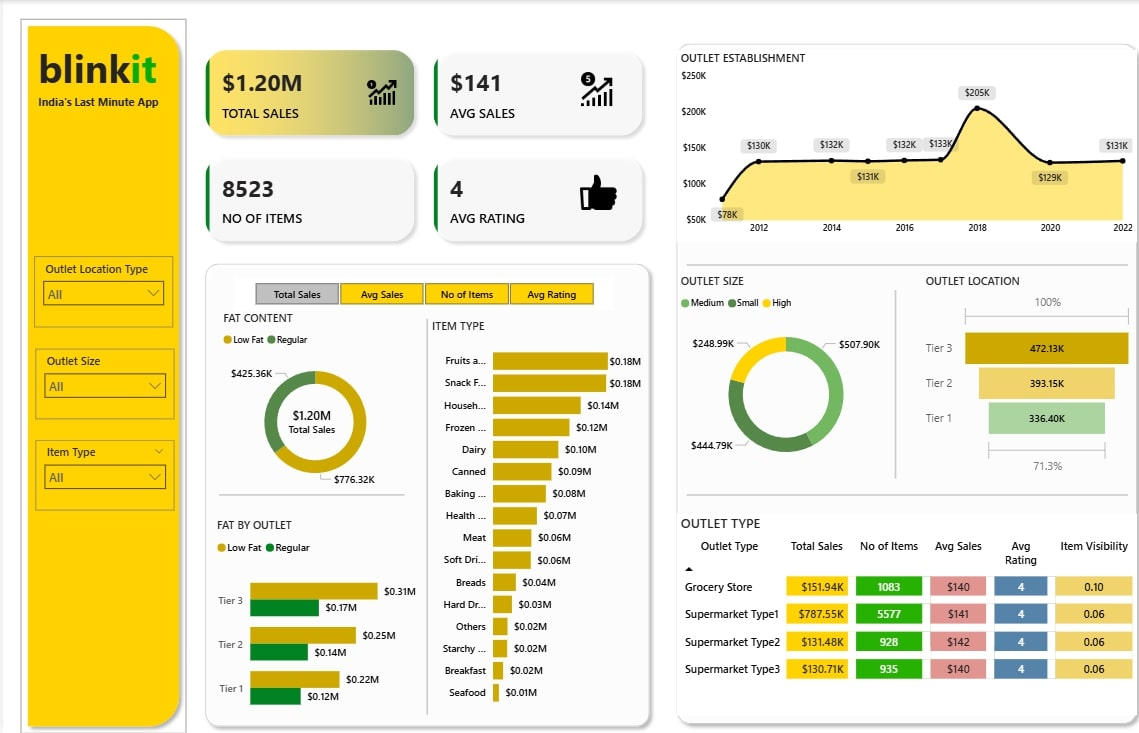

What the dashboard file says about the page in this screenshot:
{"tool":"powerbi","page":{"name":"Page 1","canvas":[1400,900],"ordinal":0},"visuals":[{"type":"shape","box":[21.8,23.3,203.8,877.3],"z":0},{"type":"textbox","box":[38.9,45.1,169.6,88.7],"z":1000},{"type":"textbox","box":[38.9,110.4,227.1,88.7],"z":2000},{"type":"cardVisual","fields":{"Data":["BlinkIT Grocery Data.Total Sales","BlinkIT Grocery Data.Avg Sales","BlinkIT Grocery Data.No of Items","BlinkIT Grocery Data.Avg Rating"]},"box":[231.6,44.5,570.6,269.9],"z":3000},{"type":"shape","box":[239.3,314.4,562.9,585.9],"z":4000},{"type":"donutChart","title":"FAT CONTENT","fields":{"Y":["BlinkIT Grocery Data.Total Sales"],"Category":["BlinkIT Grocery Data.Item Fat Content"]},"box":[265.3,380.4,236.2,230.1],"z":5000},{"type":"slicer","fields":{"Values":["Metrics.Metrics"]},"box":[283.7,340.5,464.7,39.9],"z":6000},{"type":"cardVisual","fields":{"Data":["BlinkIT Grocery Data.Total Sales"]},"box":[331.3,472.4,95.1,89],"z":7000},{"type":"clusteredBarChart","title":"FAT BY OUTLET","fields":{"Category":["BlinkIT Grocery Data.Outlet Location Type"],"Series":["BlinkIT Grocery Data.Item Fat Content"],"Y":["BlinkIT Grocery Data.Total Sales"]},"box":[257.2,634.4,254.1,258.8],"z":8000},{"type":"shape","box":[265.1,583.9,227.2,45.8],"z":9000},{"type":"shape","box":[501.8,391.3,37.9,486],"z":10000},{"type":"barChart","title":"ITEM TYPE","fields":{"Y":["BlinkIT Grocery Data.Total Sales"],"Category":["BlinkIT Grocery Data.Item Type"]},"box":[520.7,391.3,266.7,486],"z":11000},{"type":"shape","box":[817.5,44.5,582.8,852.8],"z":12000},{"type":"lineChart","title":"OUTLET ESTABLISHMENT","fields":{"Y":["BlinkIT Grocery Data.Total Sales"],"Category":["BlinkIT Grocery Data.Outlet Establishment Year"]},"box":[826.7,61.4,564.4,236.2],"z":13000},{"type":"shape","box":[839,302.1,541.4,46],"z":14000},{"type":"donutChart","title":"OUTLET SIZE","fields":{"Y":["BlinkIT Grocery Data.Total Sales"],"Category":["BlinkIT Grocery Data.Outlet Size"]},"box":[826.7,335.9,268.4,251.5],"z":15000},{"type":"shape","box":[1076.7,355.8,36.8,231.6],"z":16000},{"type":"funnel","title":"OUTLET LOCATION","fields":{"Y":["Sum(BlinkIT Grocery Data.Sales)"],"Category":["BlinkIT Grocery Data.Outlet Location Type"]},"box":[1127.3,335.9,263.8,251.5],"z":17000},{"type":"shape","box":[839,584.4,541.4,46],"z":18000},{"type":"pivotTable","title":"OUTLET TYPE","fields":{"Rows":["BlinkIT Grocery Data.Outlet Type"],"Values":["BlinkIT Grocery Data.Total Sales","BlinkIT Grocery Data.No of Items","BlinkIT Grocery Data.Avg Sales","BlinkIT Grocery Data.Avg Rating","Avg(BlinkIT Grocery Data.Item Visibility)"]},"box":[826.7,630.4,564.4,246.9],"z":19000},{"type":"slicer","fields":{"Values":["BlinkIT Grocery Data.Outlet Location Type"]},"box":[38.3,314.4,170.2,87.4],"z":19001},{"type":"slicer","fields":{"Values":["BlinkIT Grocery Data.Outlet Size"]},"box":[39.5,427.6,170.4,86.8],"z":19002},{"type":"slicer","fields":{"Values":["BlinkIT Grocery Data.Item Type"]},"box":[39.5,539.7,170.4,86.8],"z":19003}]}

Visuals, with their boxes in screenshot pixels (x1, y1, x2, y2), scaled from the page's 1400x900 canvas onto the 1139x733 screenshot:
shape: crop(18, 19, 184, 732)
textbox: crop(32, 37, 170, 109)
textbox: crop(32, 90, 216, 162)
cardVisual - BlinkIT Grocery Data.Total Sales x BlinkIT Grocery Data.Avg Sales: crop(188, 36, 653, 256)
shape: crop(195, 256, 653, 732)
"FAT CONTENT" donutChart: crop(216, 310, 408, 497)
slicer - Metrics.Metrics: crop(231, 277, 609, 310)
cardVisual - BlinkIT Grocery Data.Total Sales: crop(270, 385, 347, 457)
"FAT BY OUTLET" clusteredBarChart: crop(209, 517, 416, 727)
shape: crop(216, 476, 401, 513)
shape: crop(408, 319, 439, 715)
"ITEM TYPE" barChart: crop(424, 319, 641, 715)
shape: crop(665, 36, 1138, 731)
"OUTLET ESTABLISHMENT" lineChart: crop(673, 50, 1132, 242)
shape: crop(683, 246, 1123, 284)
"OUTLET SIZE" donutChart: crop(673, 274, 891, 478)
shape: crop(876, 290, 906, 478)
"OUTLET LOCATION" funnel: crop(917, 274, 1132, 478)
shape: crop(683, 476, 1123, 513)
"OUTLET TYPE" pivotTable: crop(673, 513, 1132, 715)
slicer - BlinkIT Grocery Data.Outlet Location Type: crop(31, 256, 170, 327)
slicer - BlinkIT Grocery Data.Outlet Size: crop(32, 348, 171, 419)
slicer - BlinkIT Grocery Data.Item Type: crop(32, 440, 171, 510)
